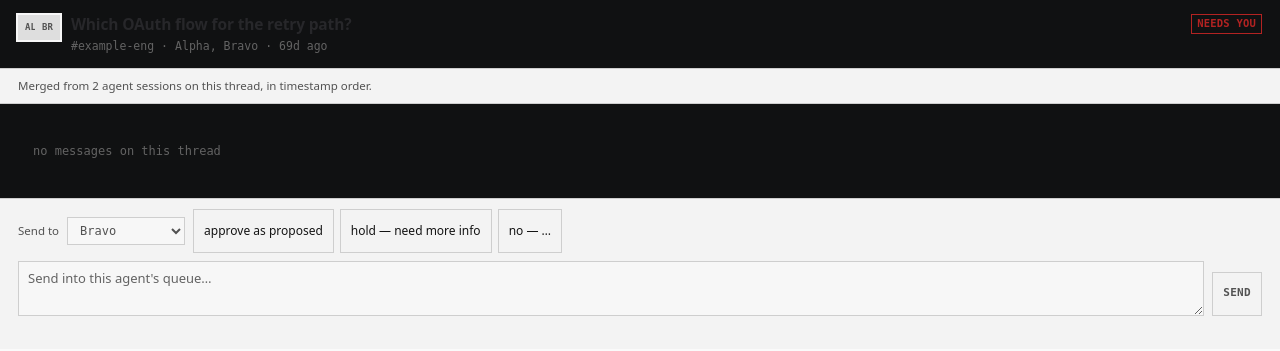
Test: the selector spans every wired agent, participants first › assigning an agent with no session says the queue was opened
Step 1. Select "Charlie" in the dropdown labelled "Send to" → point(126, 231), box [67,217,185,245]
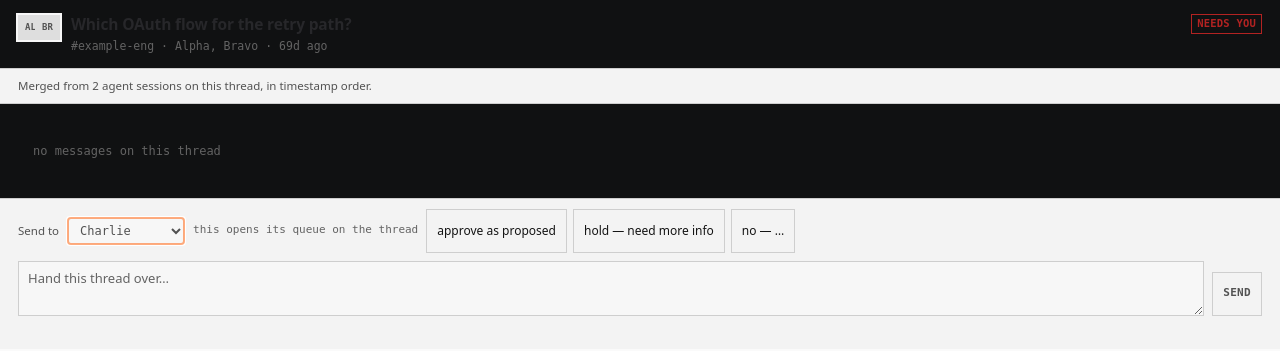
Check: the text "this opens its queue on the thread" is shown, box [193,222,418,239]
Step 2. Type "you own this now" into the text box named "Message text" → point(611, 288), box [18,261,1204,316]
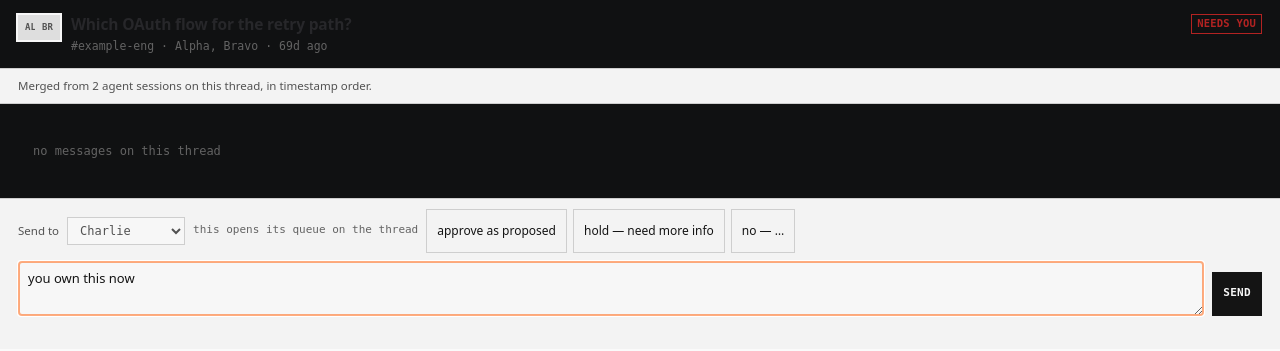
Step 3. Click the button "send" → point(1237, 294), box [1212,272,1262,316]
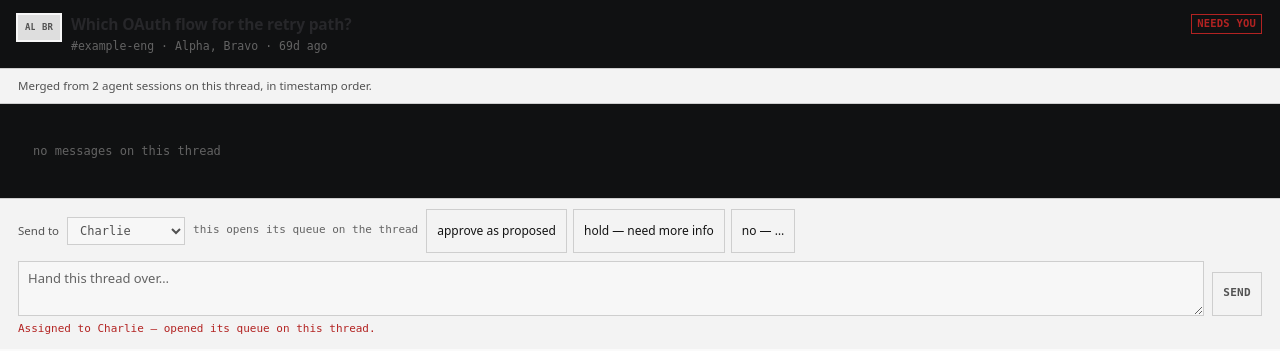
Check: the text "Assigned to Charlie — opened its queue on this thread." is shown, box [18,322,376,335]
